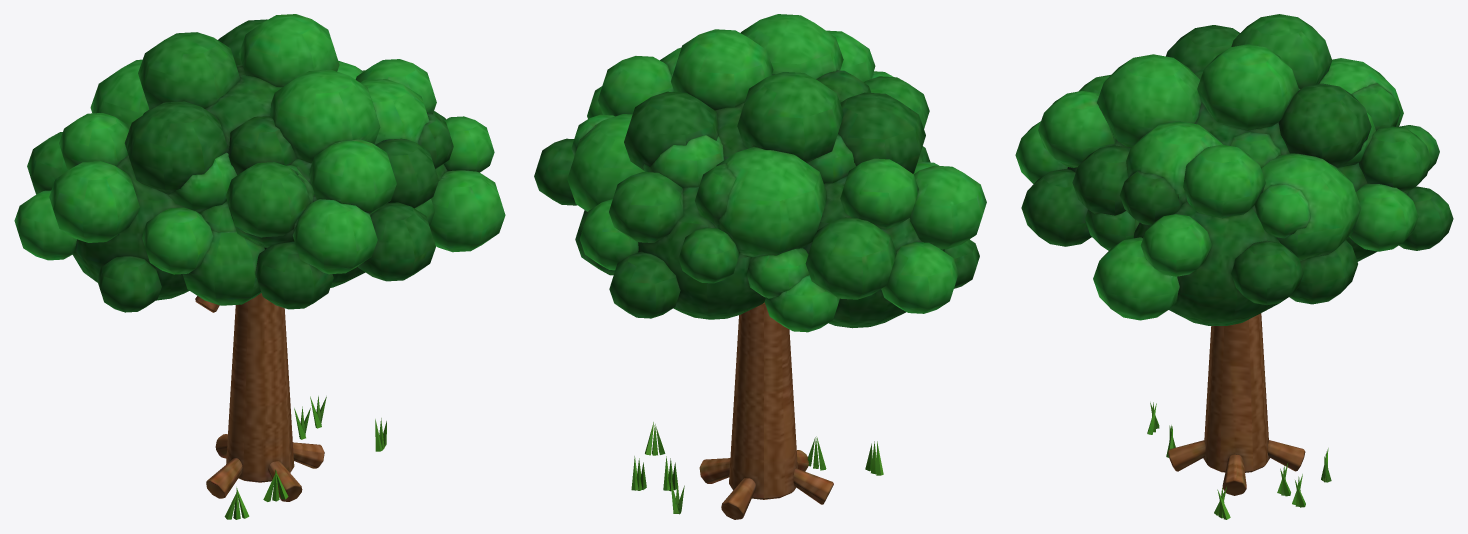
File: lychee_tree.glb
The picture shows the model from 3 angles, left to right: view 1: azimuth 30°, elevation 25°; view 2: azimuth 150°, elevation 25°; view 3: azimuth 270°, elevation 25°; orthographic projection. The views are drawn at different scales.
Visible parts, largest first — view 1: crown, lychee_tree; view 2: crown, lychee_tree; view 3: crown, lychee_tree.
Boxes of the visible parts, <box> form: crown: <box>14,14,505,312</box>; lychee_tree: <box>195,293,386,519</box>; crown: <box>534,14,986,332</box>; lychee_tree: <box>631,302,883,519</box>; crown: <box>1015,14,1453,325</box>; lychee_tree: <box>1147,313,1331,519</box>.
Bounding box in the file's own units: 1.27 × 1.3 × 1.17.
Materials: 1 (1 with a texture image).
